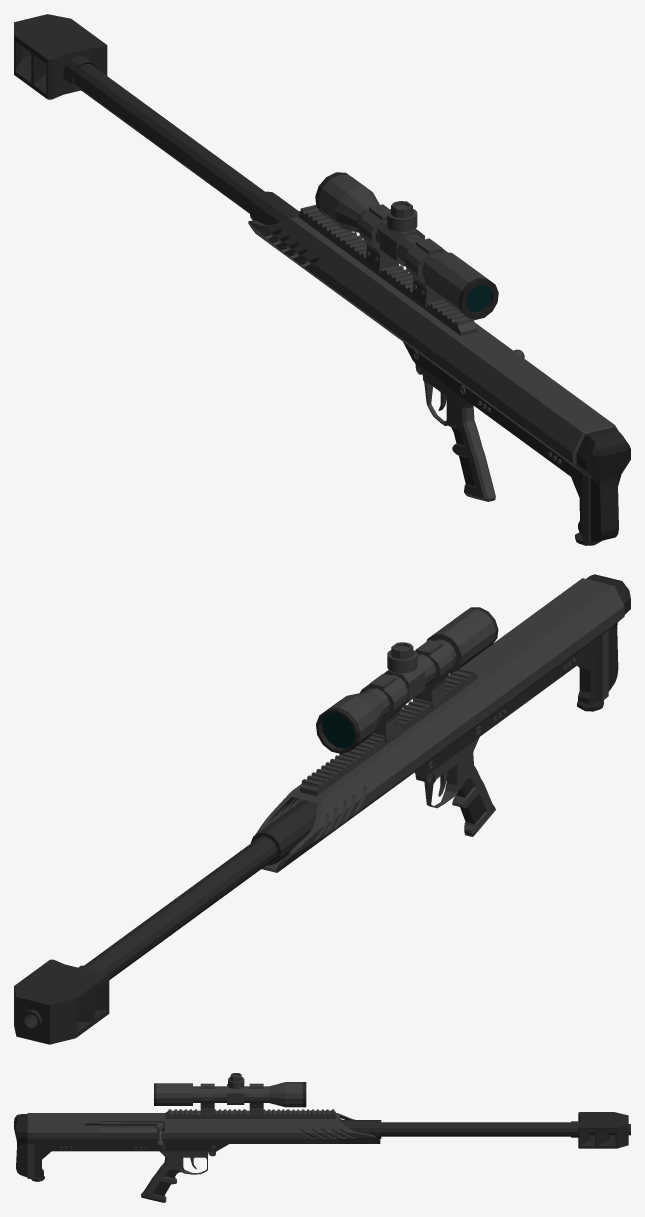
File: barrett50_cal.fbx
The picture shows the model from 3 angles, top to bottom: view 1: azimuth 30°, elevation 25°; view 2: azimuth 150°, elevation 25°; view 3: azimuth 270°, elevation 25°; orthographic projection. The views are drawn at different scales.
Visible parts, largest first — view 1: Cylinder; view 2: Cylinder; view 3: Cylinder.
Boxes of the visible parts, left/top/right/bottom form: Cylinder: left=14, top=14, right=630, bottom=545; Cylinder: left=14, top=574, right=630, bottom=1044; Cylinder: left=14, top=1073, right=630, bottom=1202.
Size of the model in its own units: 156 by 450 by 1985.
